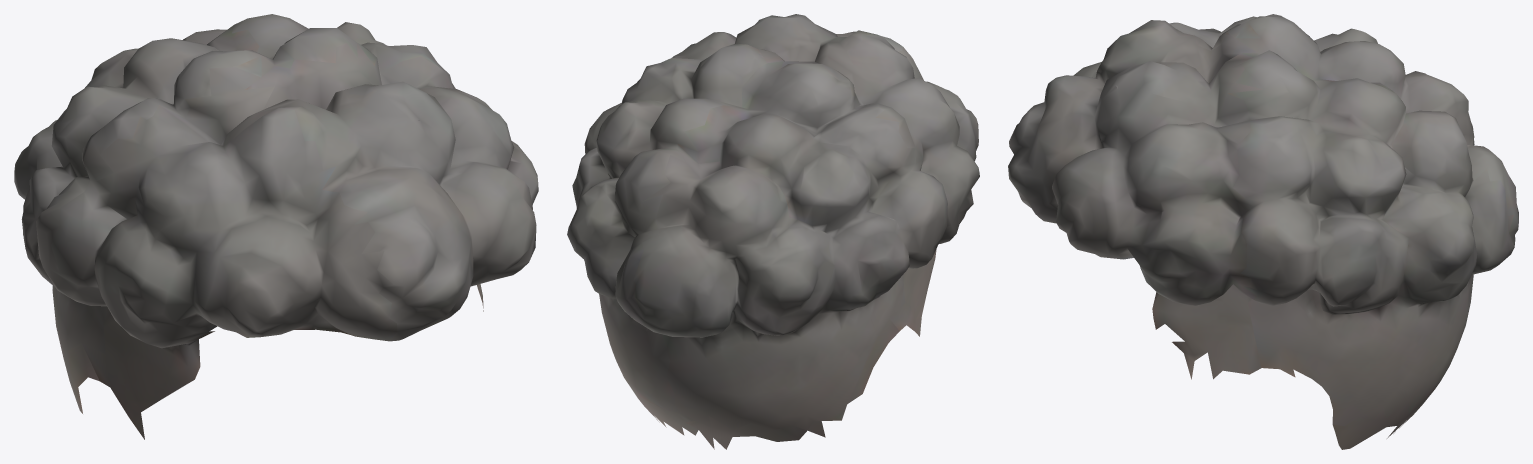
Rendered from hair-m-curly-top.glb.
The picture shows the model from 3 angles, left to right: view 1: azimuth 30°, elevation 25°; view 2: azimuth 150°, elevation 25°; view 3: azimuth 270°, elevation 25°; orthographic projection. The views are drawn at different scales.
Parts seen in each view (by area): view 1: hair-m-curly-top; view 2: hair-m-curly-top; view 3: hair-m-curly-top.
Boxes of the visible parts, left/top/right/bottom form: hair-m-curly-top: left=14, top=14, right=538, bottom=439; hair-m-curly-top: left=567, top=14, right=979, bottom=449; hair-m-curly-top: left=1008, top=14, right=1518, bottom=449.
Bounding box in the file's own units: 0.9492 × 0.9012 × 1.11.
1 material, 1 textured.
